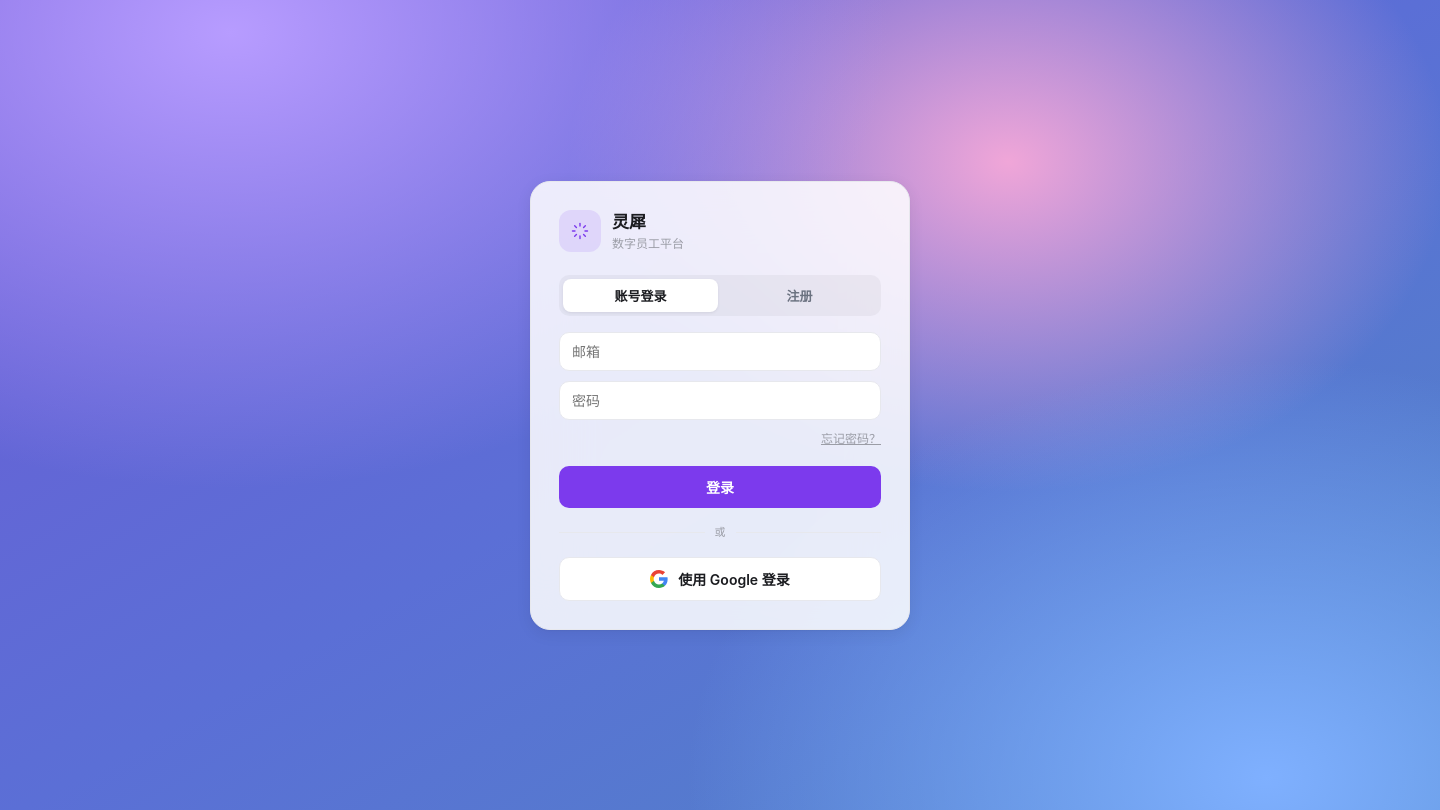
Test: LoginPage › 登录失败显示错误文案
In the field with placeholder "邮箱": (720, 352) [559,332,881,371], type "a@b.com"
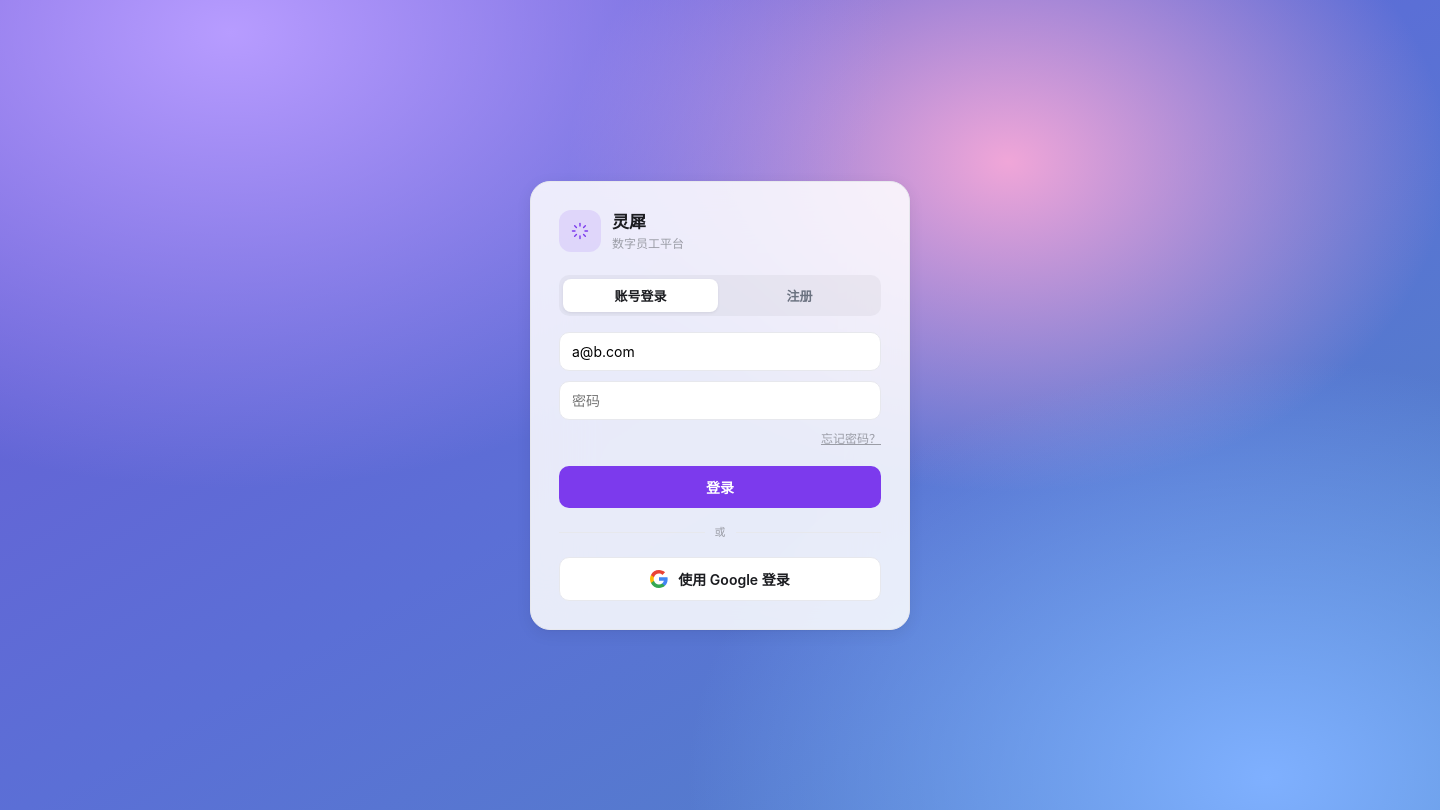
In the password field with placeholder "密码": (720, 400) [559,381,881,420], type "secret12"
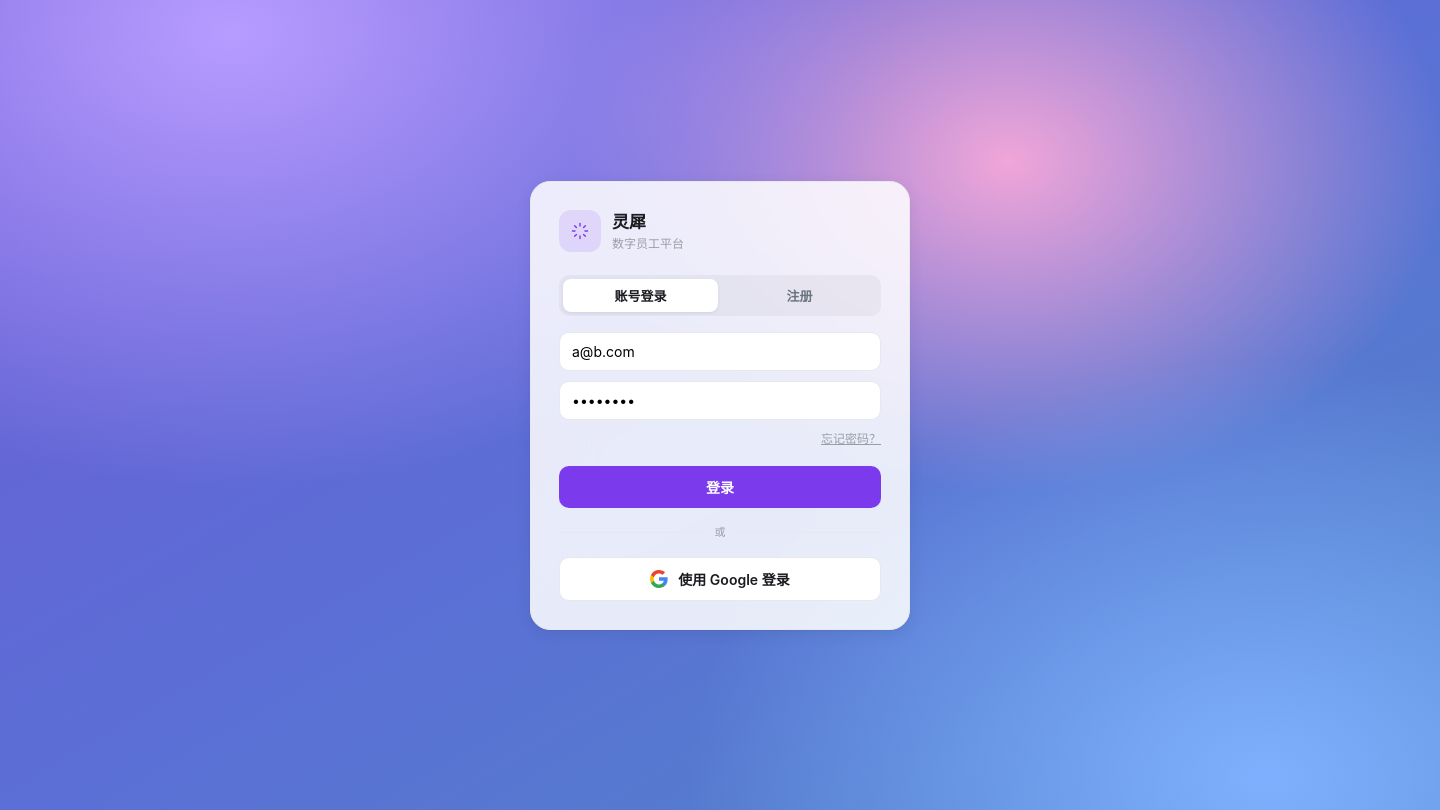
Click the button "登录": click(720, 487) [559,466,881,508]
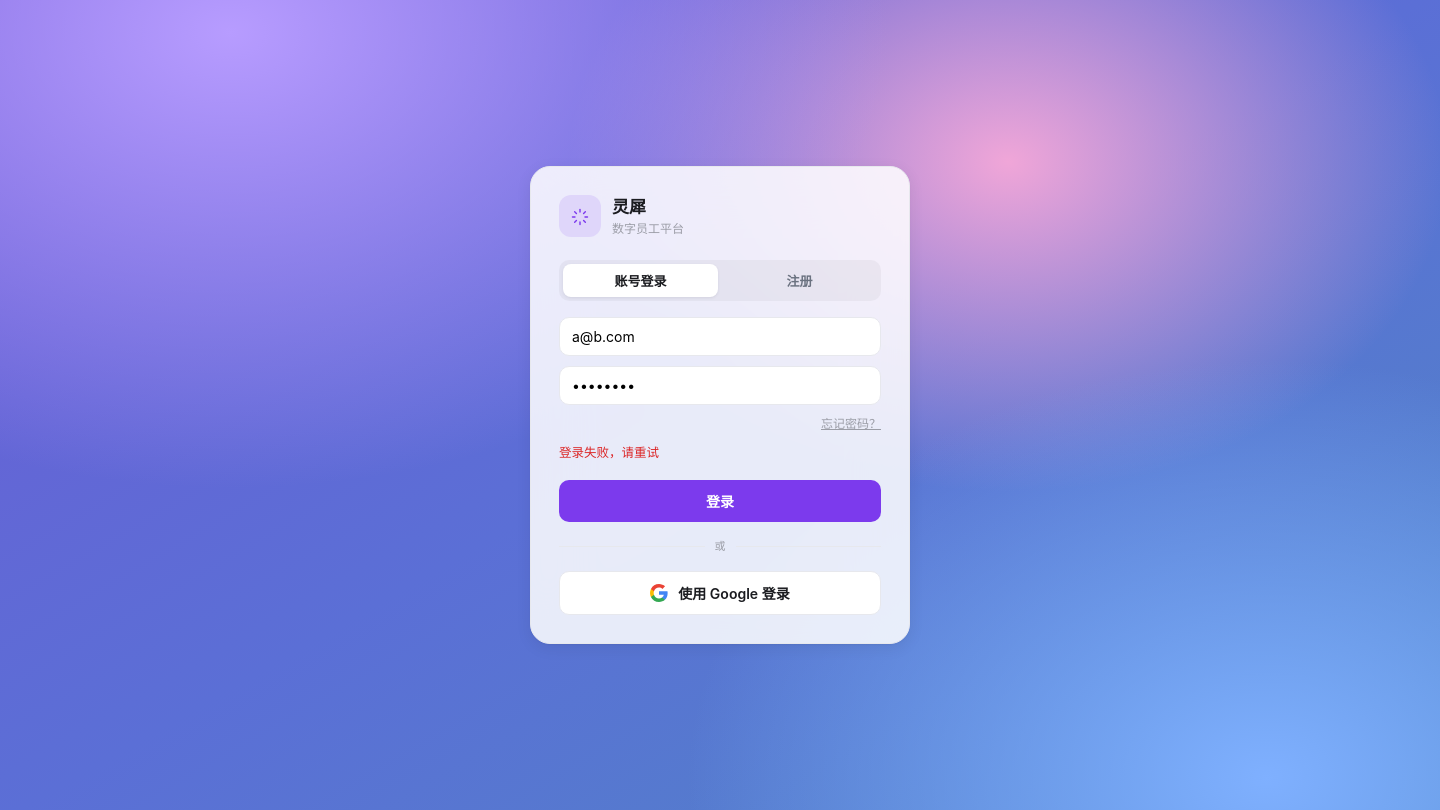
expect the text "登录失败，请重试" is shown: met, box [559,445,659,460]
